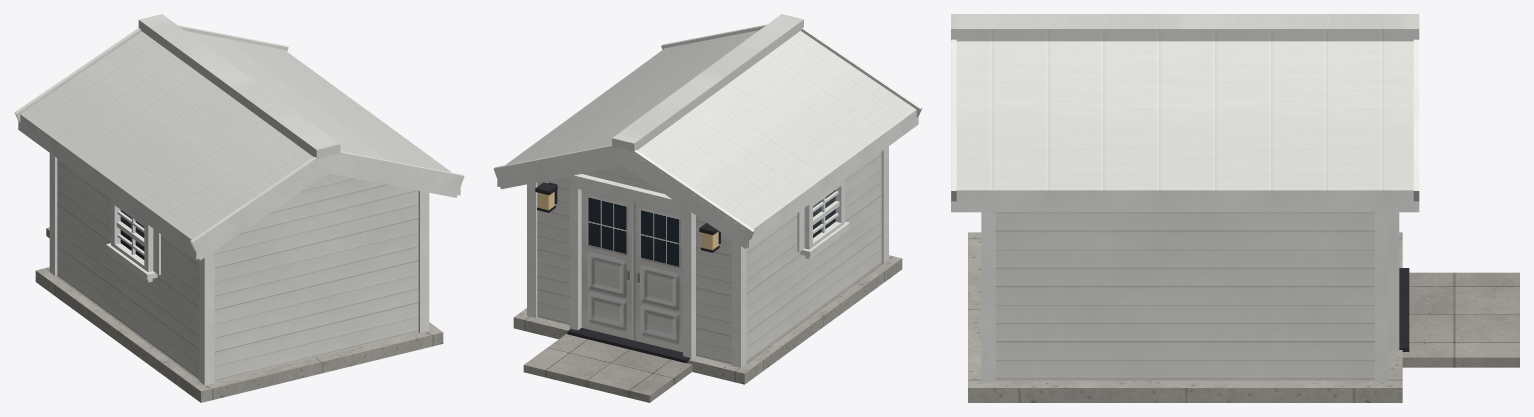
File: se_shed_white.fbx
The picture shows the model from 3 angles, left to right: view 1: azimuth 30°, elevation 25°; view 2: azimuth 150°, elevation 25°; view 3: azimuth 270°, elevation 25°; orthographic projection. The views are drawn at different scales.
Parts seen in each view (by area): view 1: se_shed_white_LOD0; view 2: se_shed_white_LOD0; view 3: se_shed_white_LOD0.
Part boxes in pixels (left/top/right/bottom): se_shed_white_LOD0: left=14, top=14, right=464, bottom=402; se_shed_white_LOD0: left=493, top=14, right=922, bottom=402; se_shed_white_LOD0: left=951, top=14, right=1519, bottom=402.
Size of what is drawn, in the model's own units: 3.71 by 3 by 5.1.
Materials: 2 (2 with a texture image).
